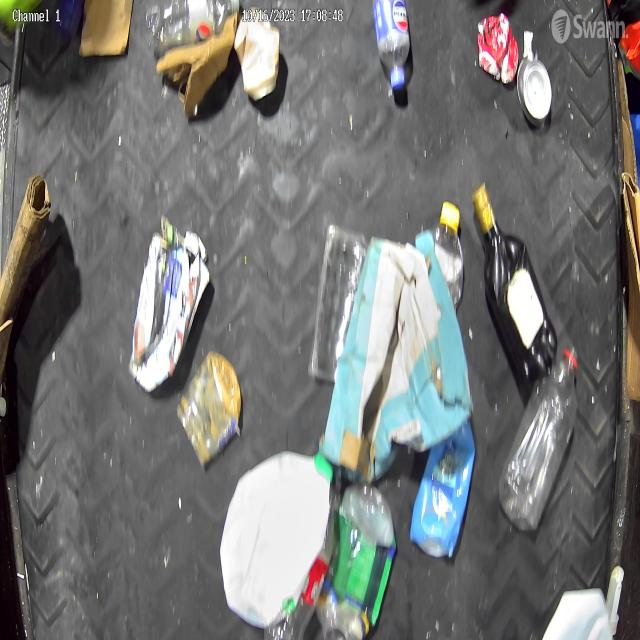milk_jug: (219, 450, 339, 624)
plastic_bottle: (499, 340, 578, 530), (145, 0, 237, 48), (372, 0, 410, 93)
